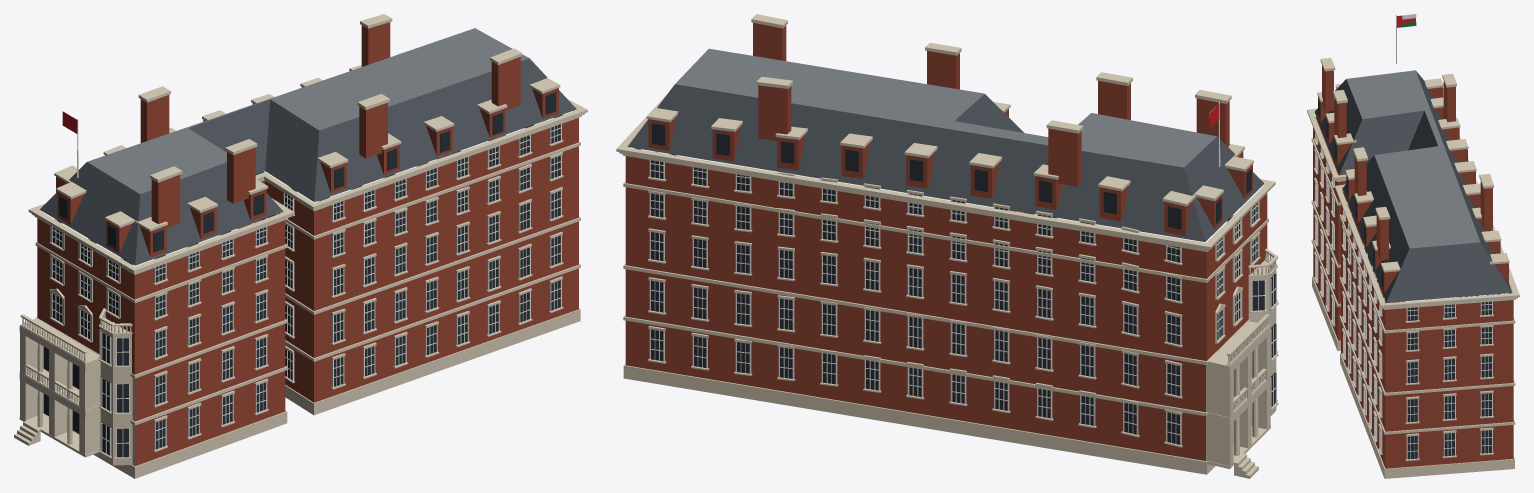
Rendered from embassy_of_oman.glb.
3 views of the same model, side by side, from view 1: azimuth 30°, elevation 25°; view 2: azimuth 150°, elevation 25°; view 3: azimuth 270°, elevation 25° (orthographic). The views are drawn at different scales.
Size of the model in its own units: 48.69 by 27.58 by 19.82.
